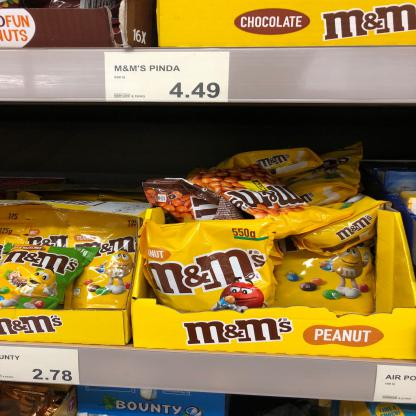prtg: (104, 53, 232, 104), (1, 347, 82, 387), (374, 365, 415, 404)
